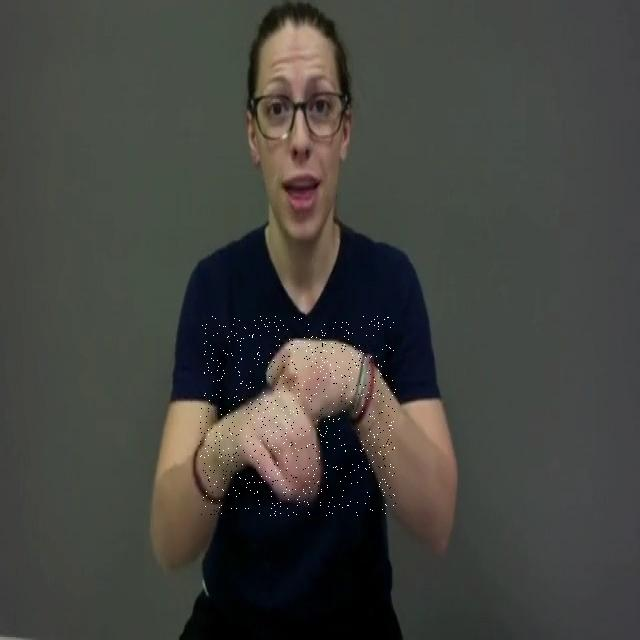bread: (200, 316, 396, 516)
